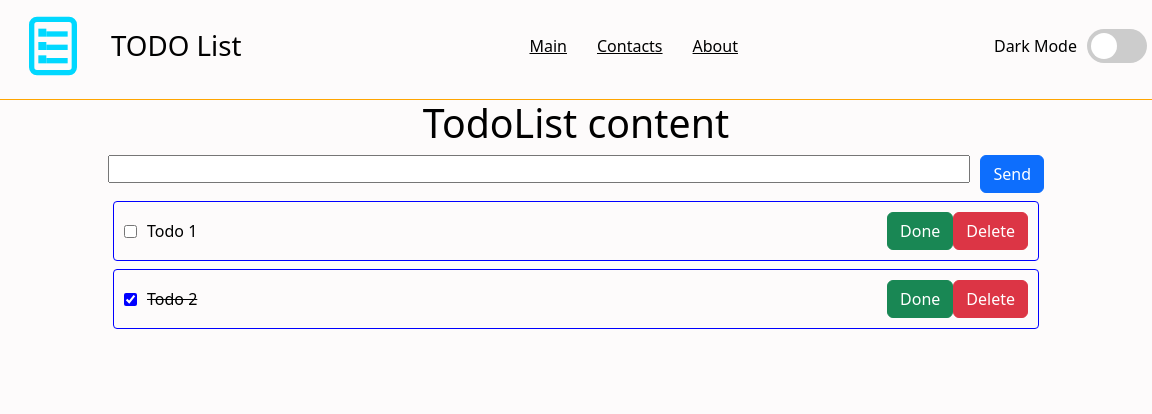
Test: Todo App Integration Tests › deletes a task when clicking the delete button
The image size is (1152, 414).
Type "Task for deletion" into the field. click: [539, 169]
box: [108,155,970,183]
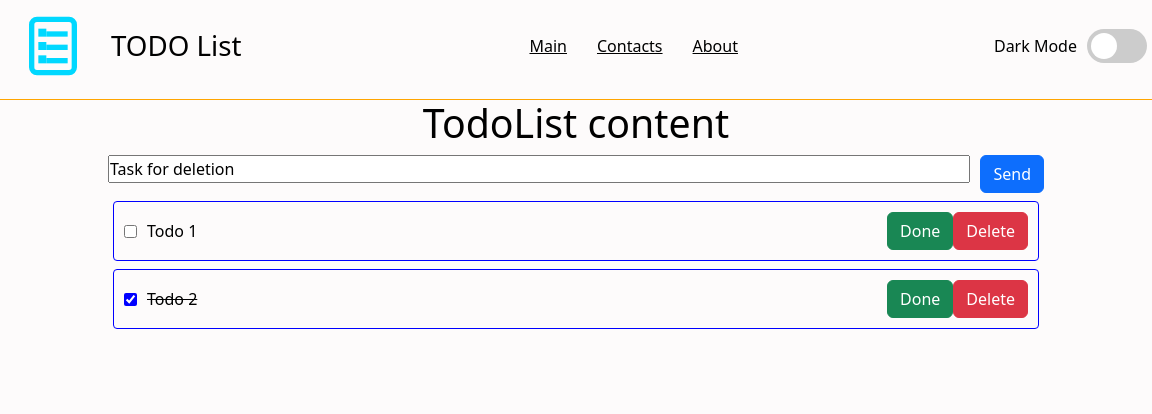
Press Enter in the field, box [108,155,970,183]
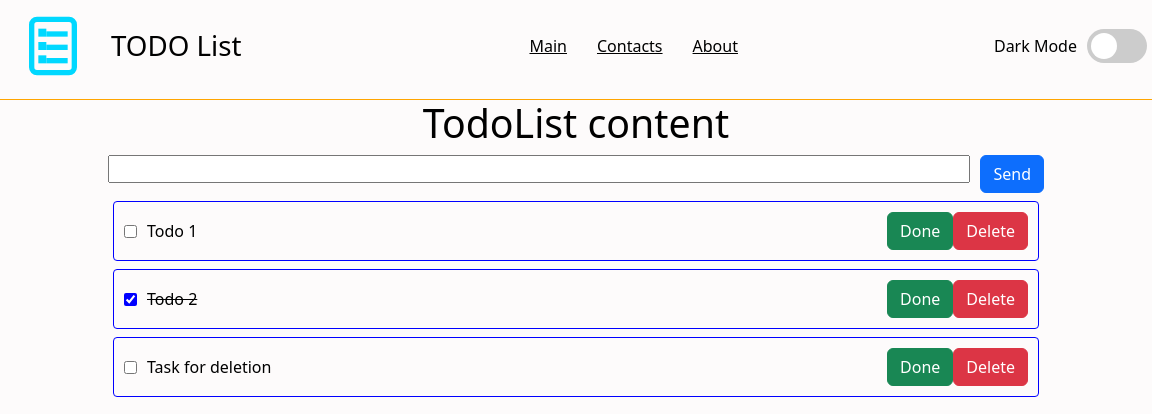
Click the button "Delete" in the row of "Task for deletion". click: [991, 367]
box: [953,348,1028,386]
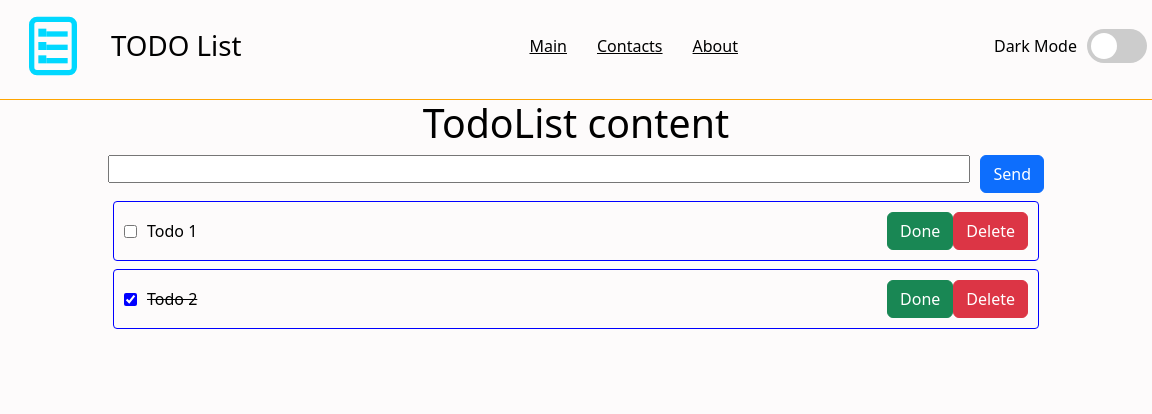
Now the text "Task for deletion" is gone
